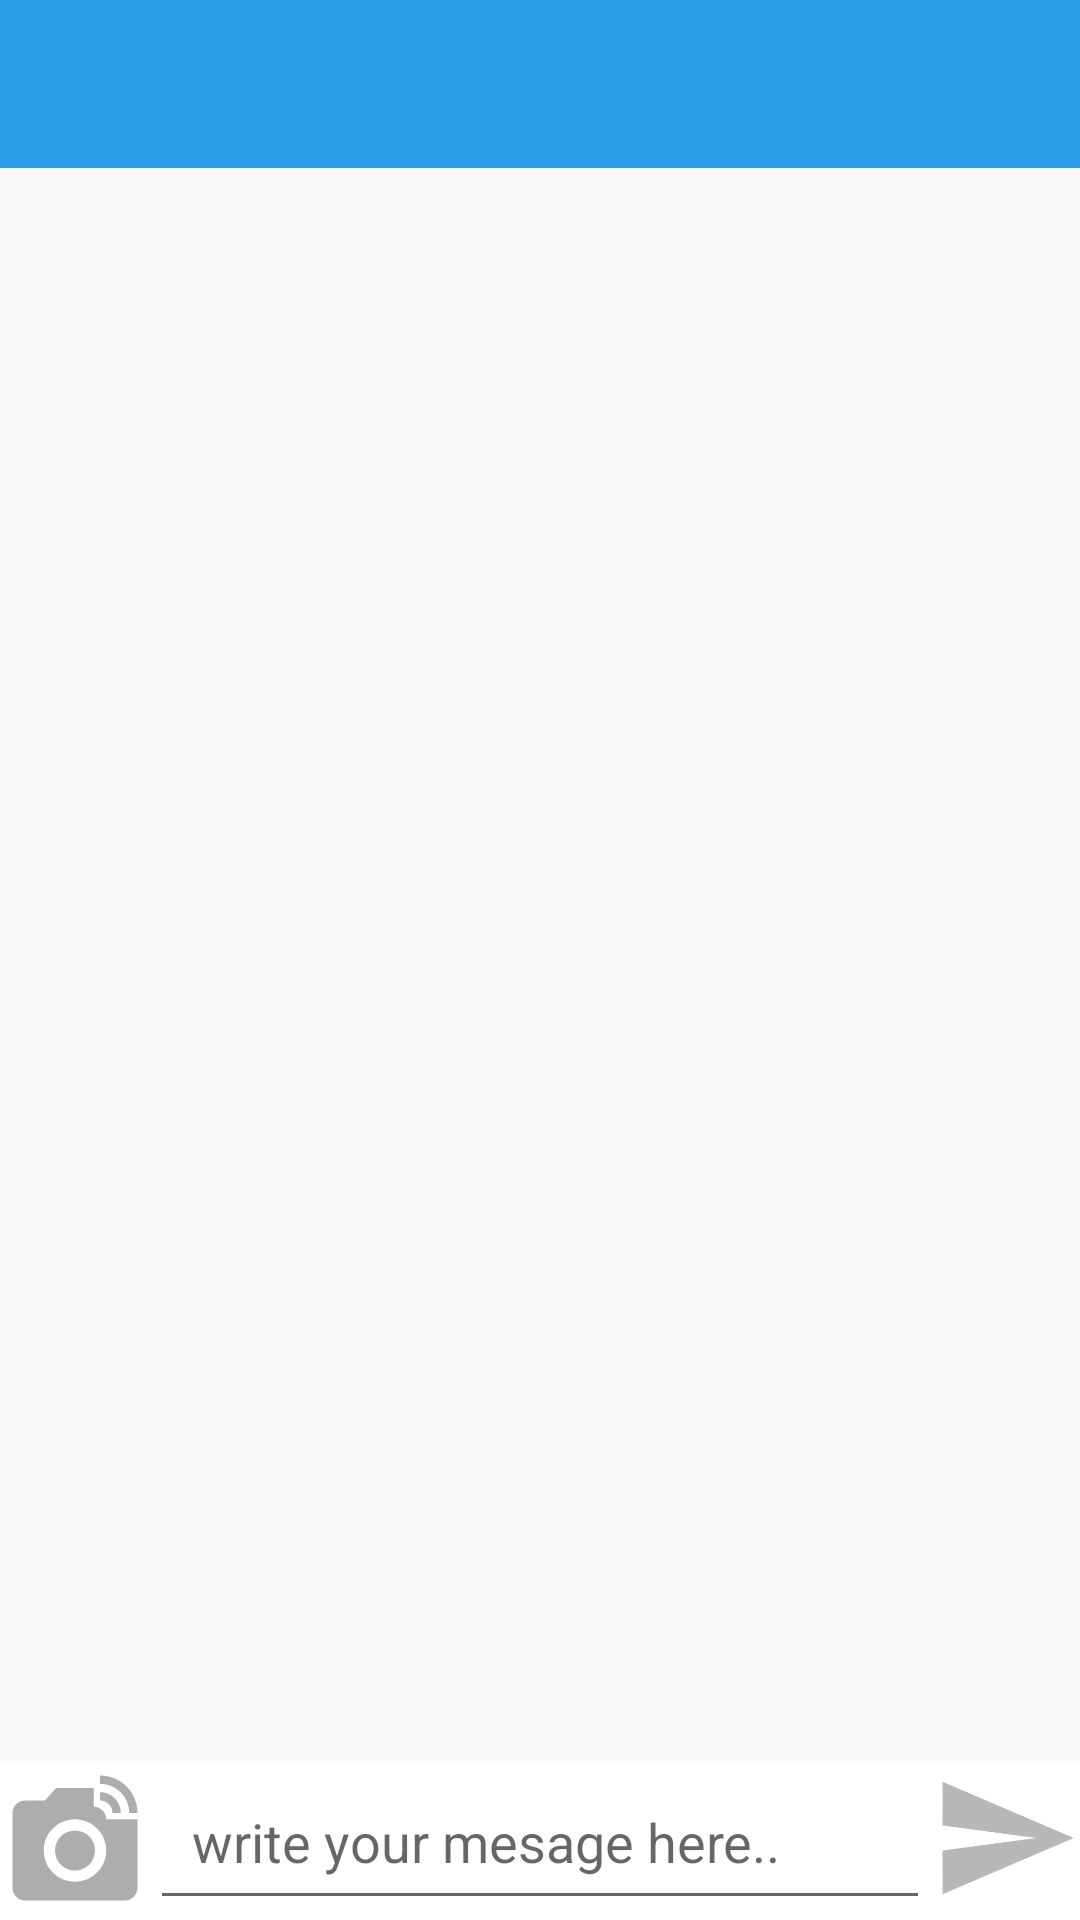

Screen size 1080×1920. Icon name, then its box in pixels as region(x1, y1, x2, y2):
linked camera: region(12, 1775, 138, 1901)
send message: region(942, 1782, 1073, 1894)
